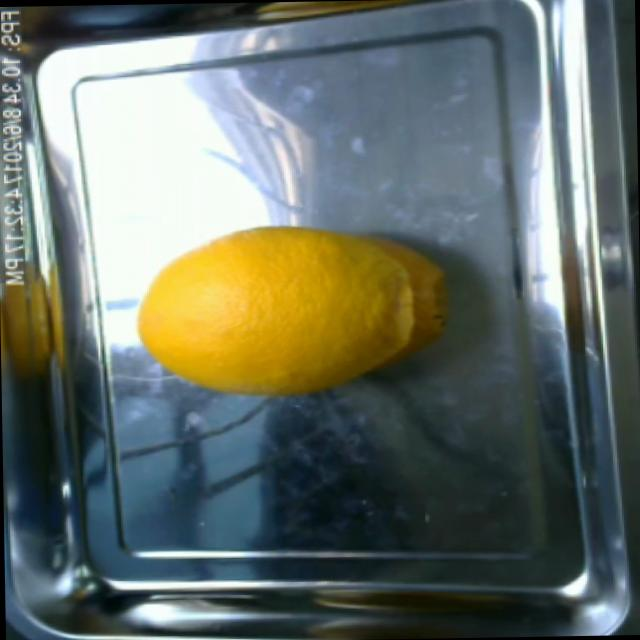Fruit: (110, 218, 319, 400)
